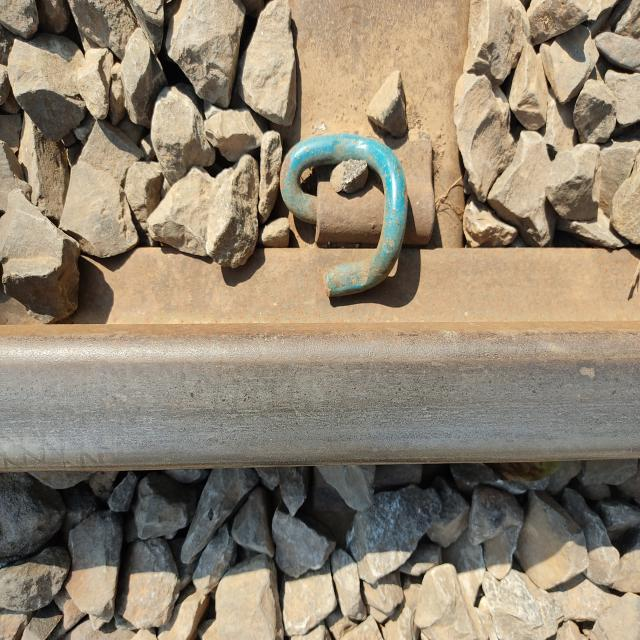No Fault: (6, 333, 640, 454)
